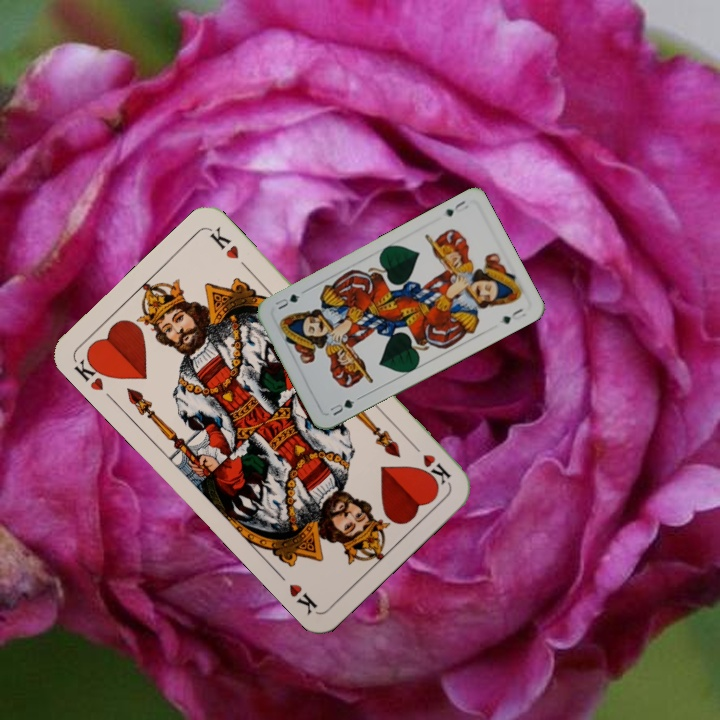GU: (326, 393, 363, 418), (440, 196, 472, 219)
HK: (406, 438, 454, 487), (70, 349, 112, 394)
